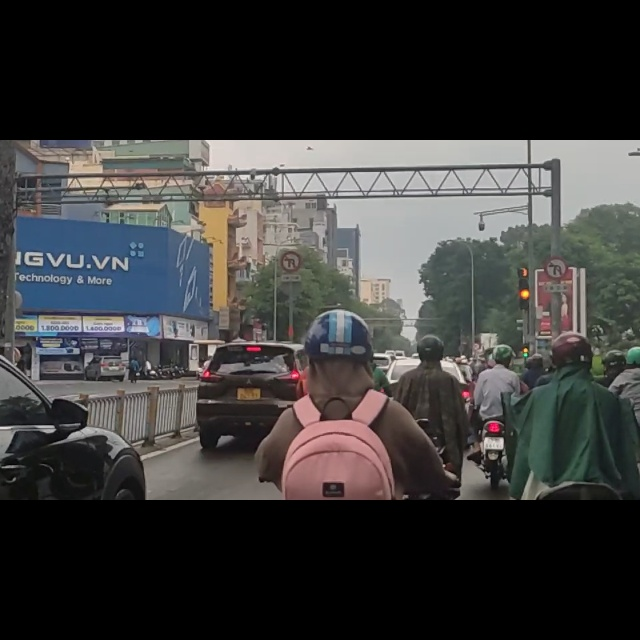bien_cam: (545, 210, 567, 249), (281, 198, 301, 233)
